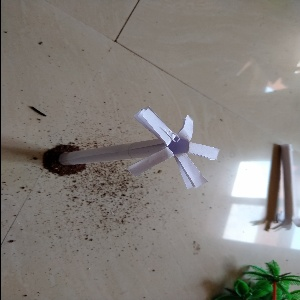weed: (60, 107, 226, 190)
